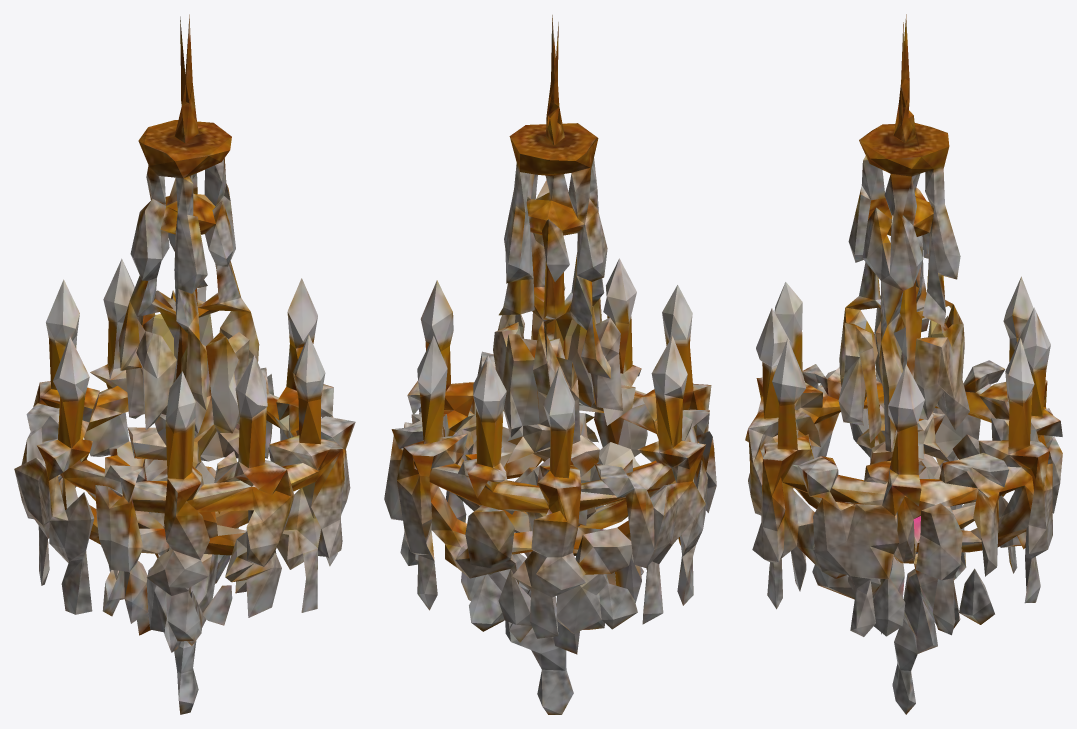
The model's file is chandelier.glb.
3 renders of one model, left to right at view 1: azimuth 30°, elevation 25°; view 2: azimuth 150°, elevation 25°; view 3: azimuth 270°, elevation 25°, orthographic.
Parts seen in each view (by area): view 1: textured_mesh.obj; view 2: textured_mesh.obj; view 3: textured_mesh.obj.
Part boxes in pixels (x1,y1,x2,y2): textured_mesh.obj: [14, 14, 355, 714]; textured_mesh.obj: [384, 15, 716, 714]; textured_mesh.obj: [745, 14, 1062, 714].
Bounding box in the file's own units: 0.5959 × 1.4 × 0.5794.
Materials: 1 (1 with a texture image).
